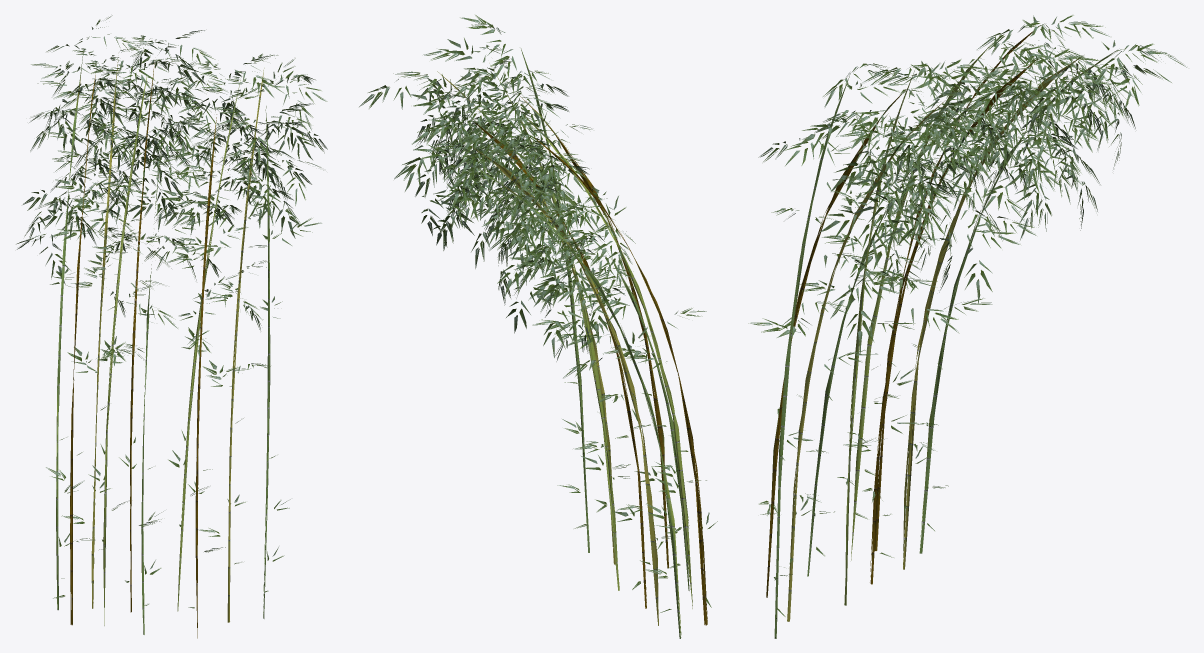
File: bamboo_clump_02.glb
3 renders of one model, left to right at view 1: azimuth 30°, elevation 25°; view 2: azimuth 150°, elevation 25°; view 3: azimuth 270°, elevation 25°, orthographic. The views are drawn at different scales.
Visible parts, largest first — view 1: bamboo_clump_02; view 2: bamboo_clump_02; view 3: bamboo_clump_02.
Part boxes in pixels (x1,y1,x2,y2): bamboo_clump_02: (16, 15, 327, 638); bamboo_clump_02: (359, 15, 717, 638); bamboo_clump_02: (748, 15, 1186, 638).
Bounding box in the file's own units: 5.74 × 9.51 × 6.19.
Materials: 2 (2 with a texture image).
